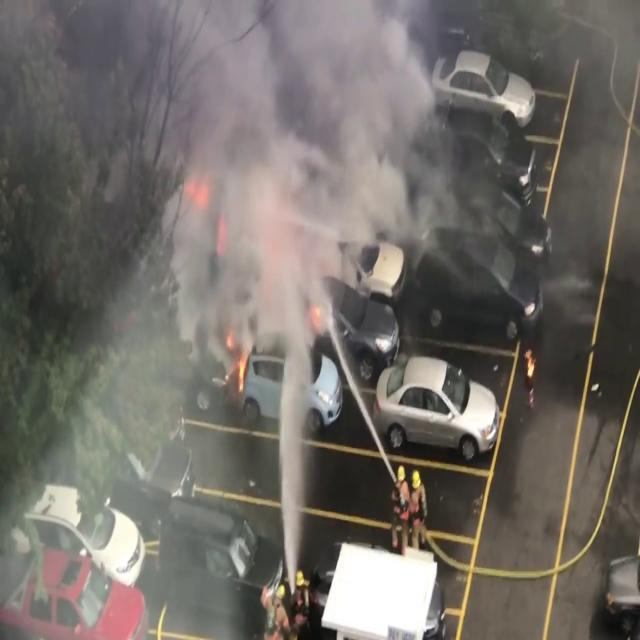Smoke: (174, 0, 519, 316)
